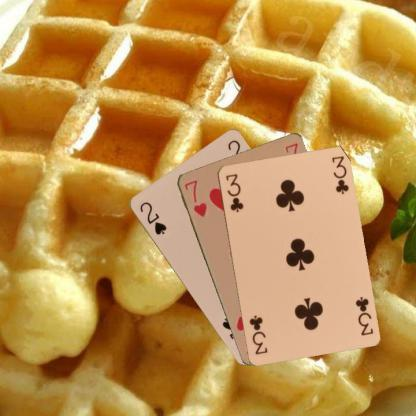2s: (136, 198, 167, 236)
3c: (352, 293, 374, 337), (222, 171, 244, 213)
7h: (181, 176, 208, 218)
